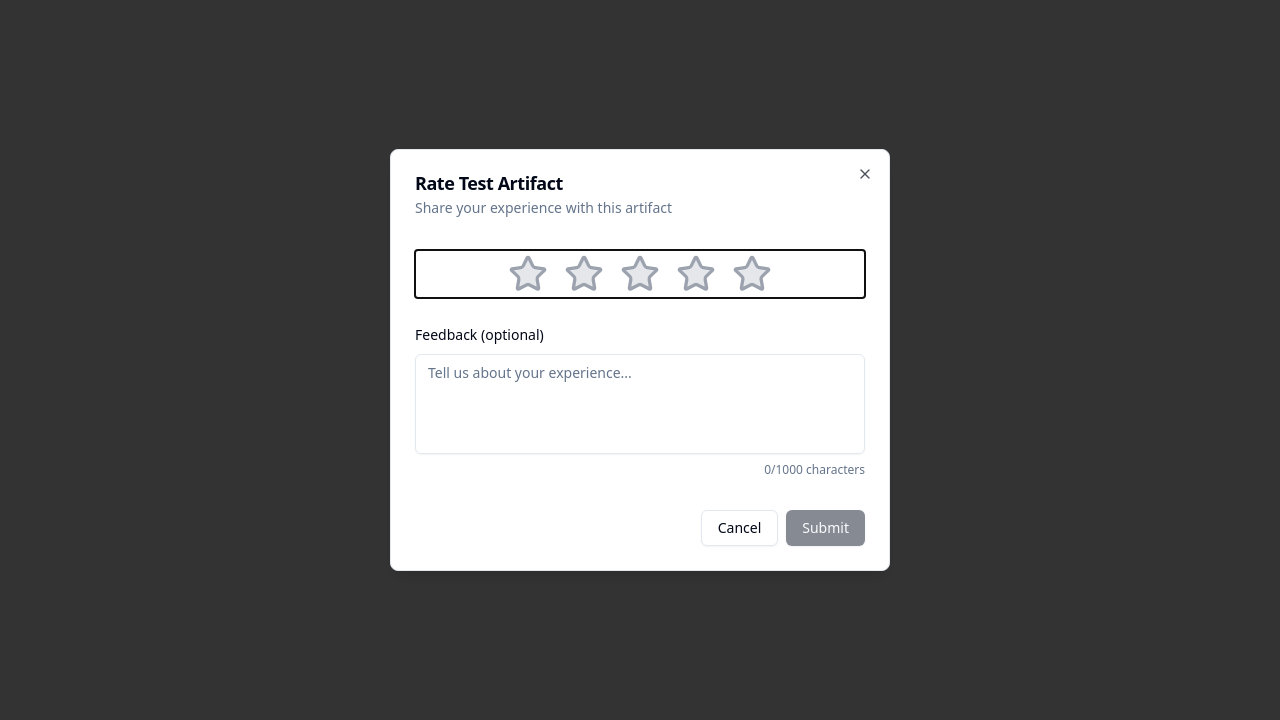
Scenario: RatingDialog › Star Selection (Mouse) › handles single star rating correctly
The width and height of the screenshot is (1280, 720).
Click the button named "Rate 1 star": (528, 274) [504,250,552,298]
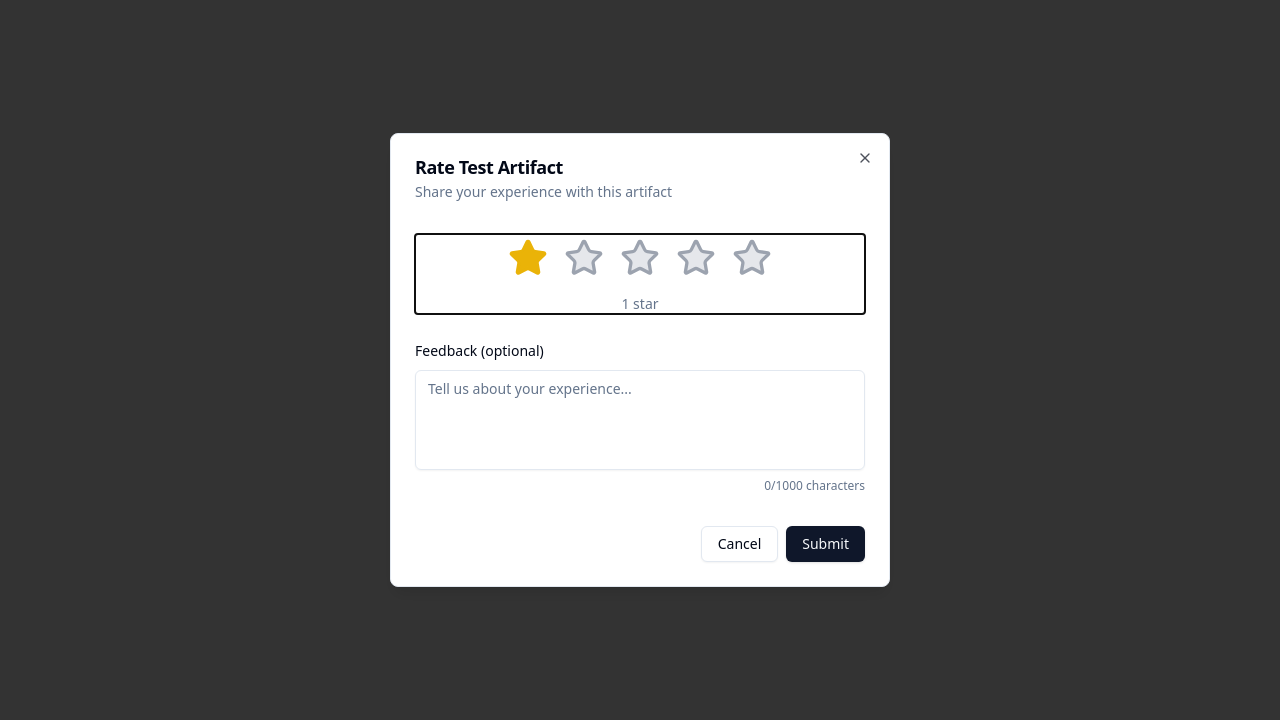
Expected: the text "1 star" is shown, [622,294,659,314]
